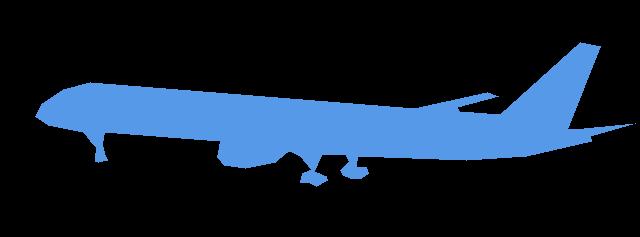Airplane: (35, 42, 635, 187)
